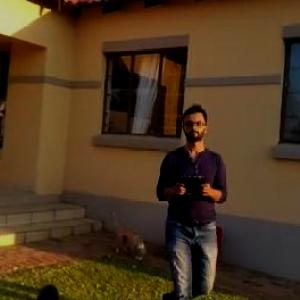follow: (146, 100, 228, 299)
null: (105, 207, 150, 265), (27, 277, 64, 299)
